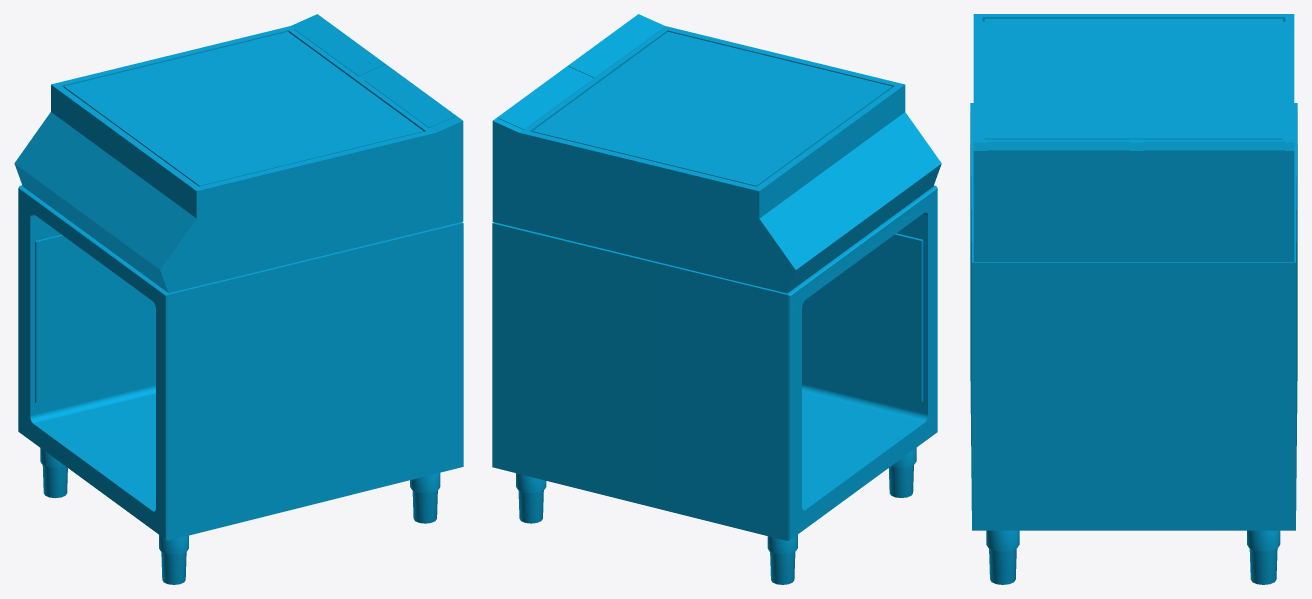
File: Restaurant_Electric_Oven_Lod0.fbx
3 views of the same model, side by side, from view 1: azimuth 30°, elevation 25°; view 2: azimuth 150°, elevation 25°; view 3: azimuth 270°, elevation 25° (orthographic). The views are drawn at different scales.
Visible parts, largest first — view 1: Restaurant_Electric_Oven_Lod0; view 2: Restaurant_Electric_Oven_Lod0; view 3: Restaurant_Electric_Oven_Lod0.
Part boxes in pixels (left/top/right/bottom): Restaurant_Electric_Oven_Lod0: left=14, top=14, right=463, bottom=584; Restaurant_Electric_Oven_Lod0: left=492, top=14, right=941, bottom=584; Restaurant_Electric_Oven_Lod0: left=970, top=14, right=1297, bottom=584.
Bounding box in the file's own units: 69.61 × 88.25 × 59.19.
